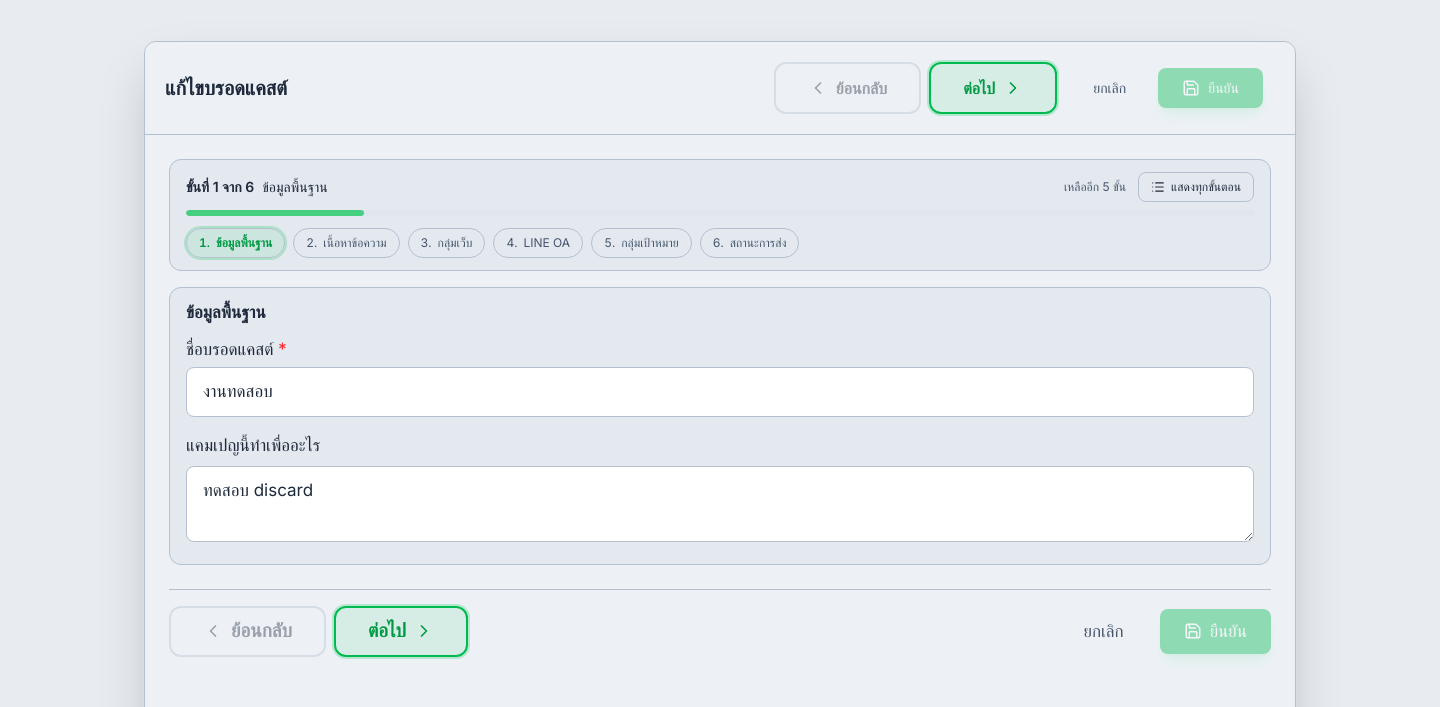
[DISCARDGUARD] ยกเลิกทั้งที่มีงานค้าง › ⭐⭐ 🔴 แก้แล้วกดยกเลิก ⇒ ถามก่อน และยังไม่ปิดหน้าต่าง
The width and height of the screenshot is (1440, 707).
Click the button with test id "-toggle": (1196, 186) [1138,172,1254,202]
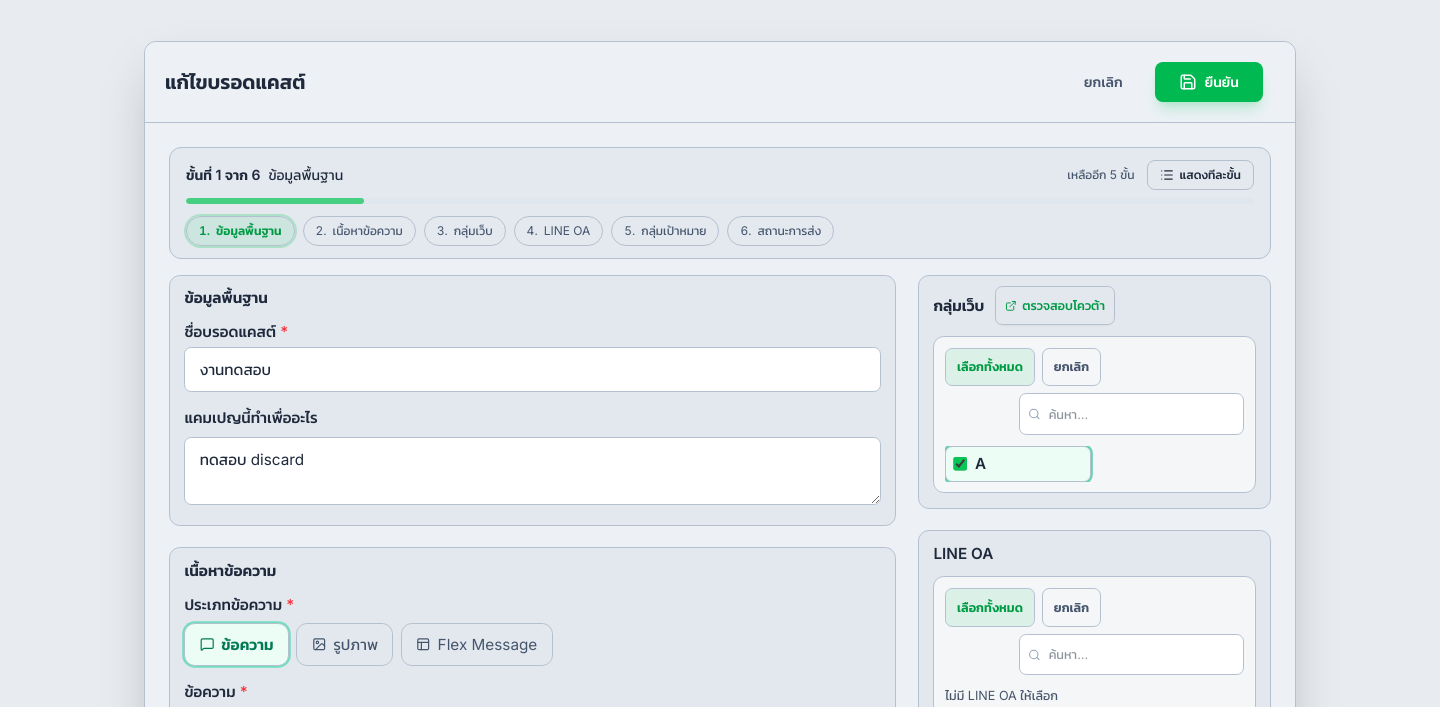
Replace the text in the field named "name" with "ชื่อที่เพิ่งพิมพ์": (533, 369) [184,347,881,392]
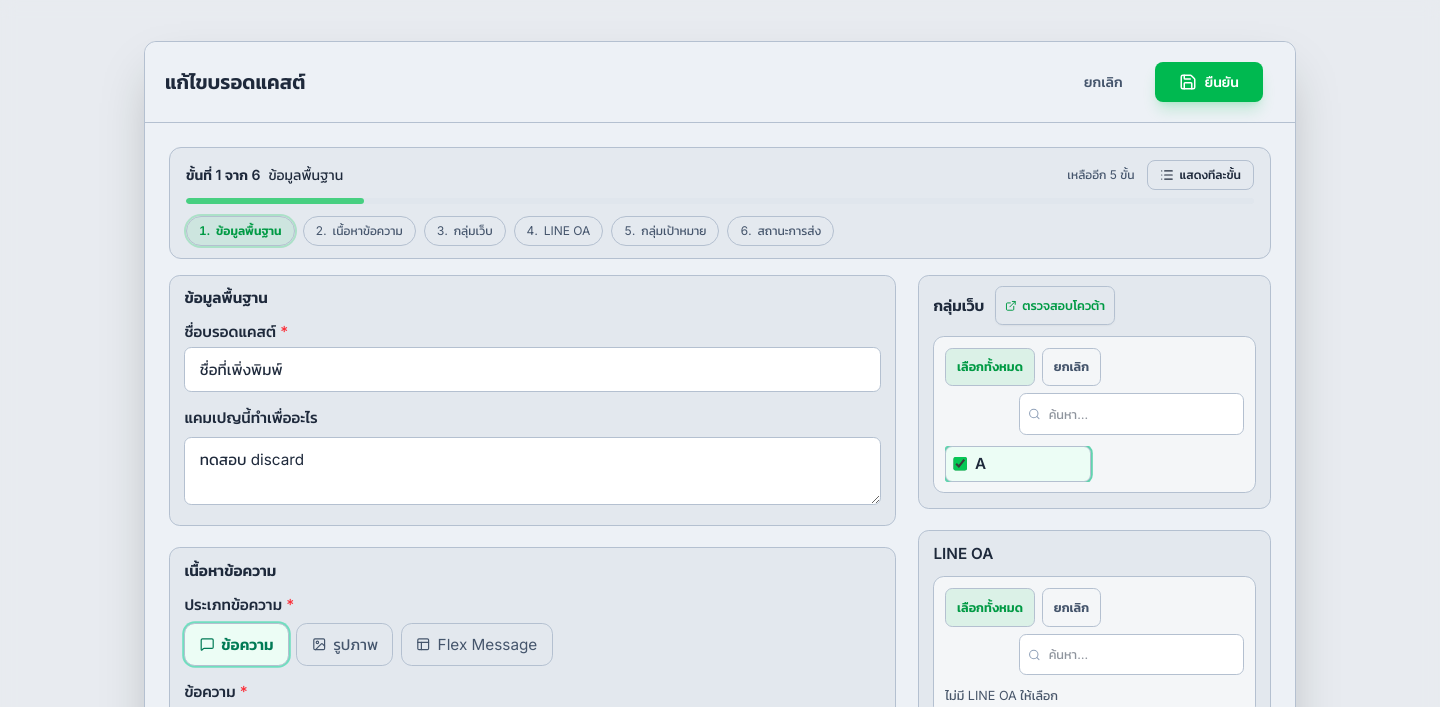
Click the button named "header_cancel": (1103, 82) [1060,62,1147,102]
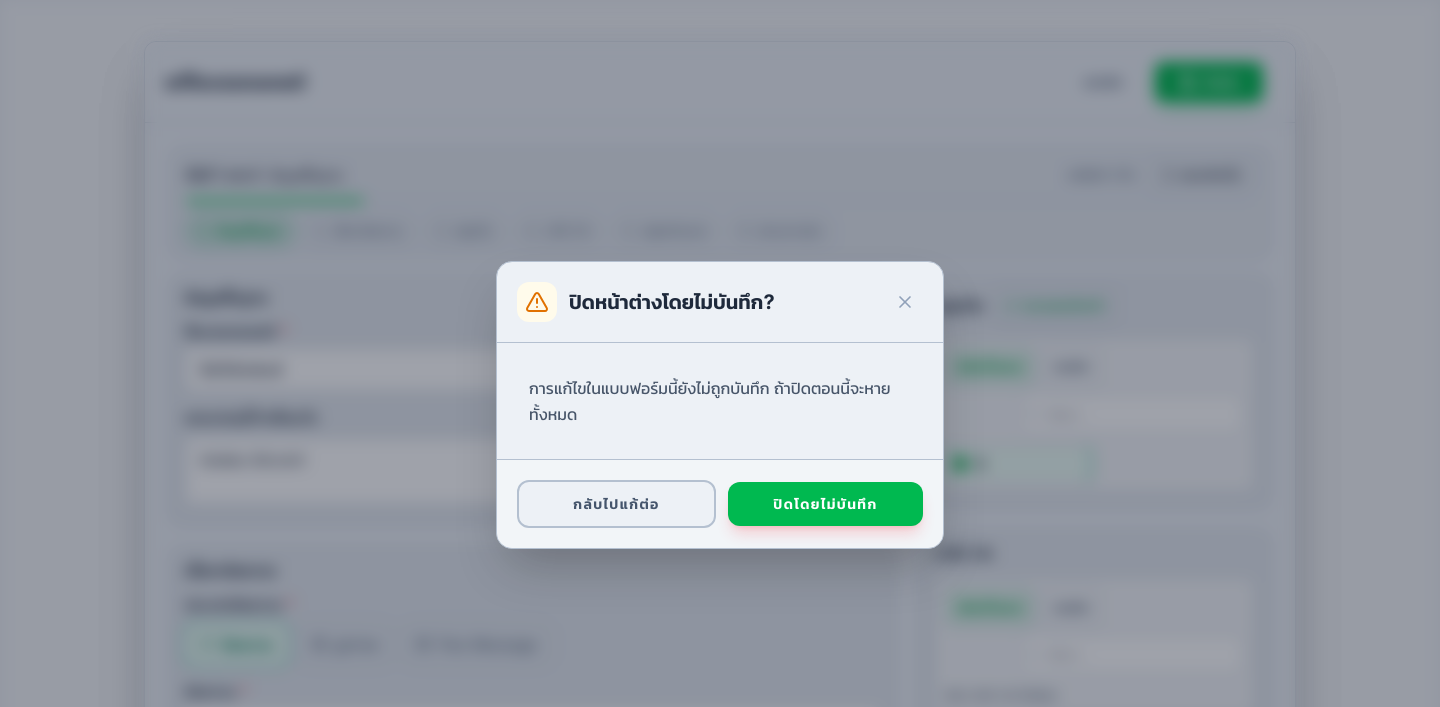
Expected: the heading "ปิดหน้าต่างโดยไม่บันทึก?" is shown, [517,282,775,322]
